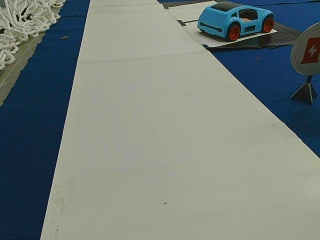battery: (291, 21, 320, 77)
car: (197, 3, 274, 41)
